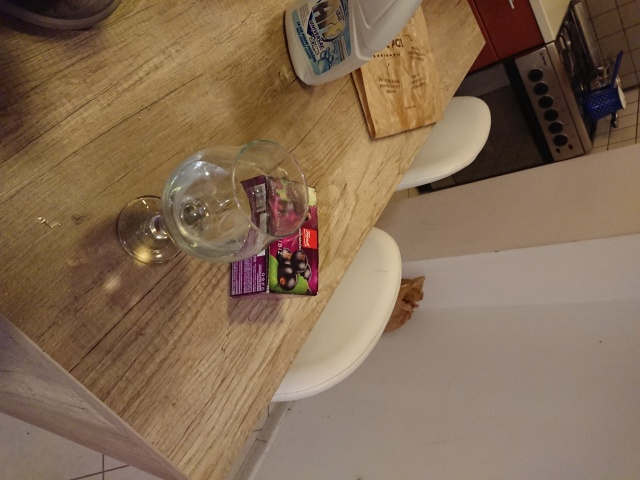Franck Black Currant Tea 60g: (224, 171, 323, 302)
